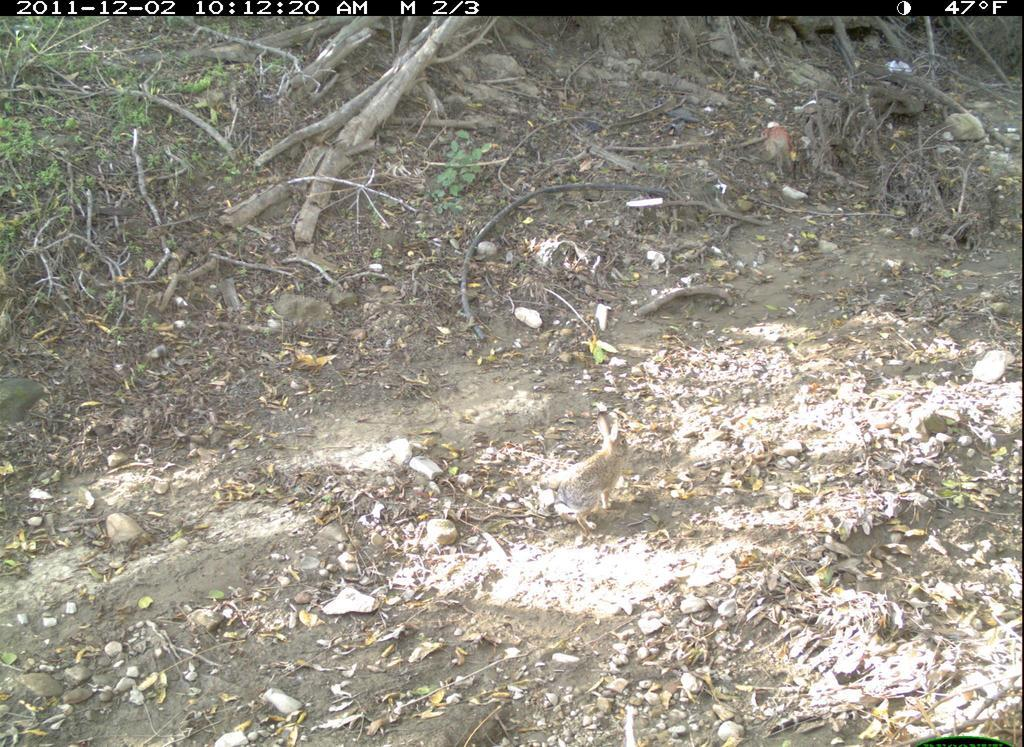rabbit: (541, 405, 641, 539)
